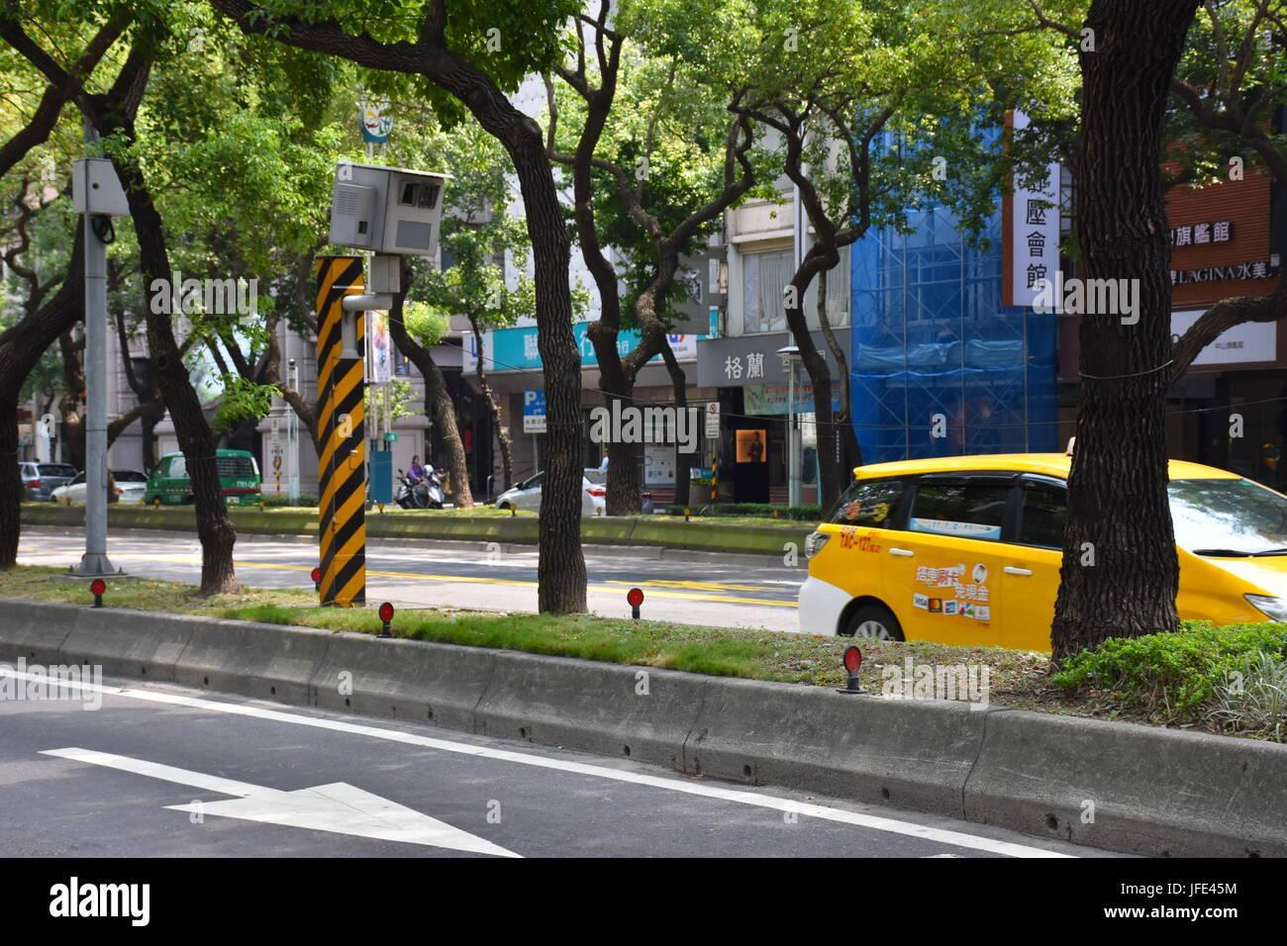Monitor: (328, 160, 452, 258)
